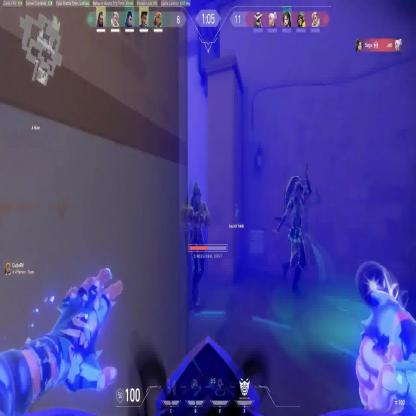enemy: (272, 162, 313, 292), (180, 181, 211, 307)
enemy_head: (193, 182, 202, 205), (295, 182, 303, 199)
